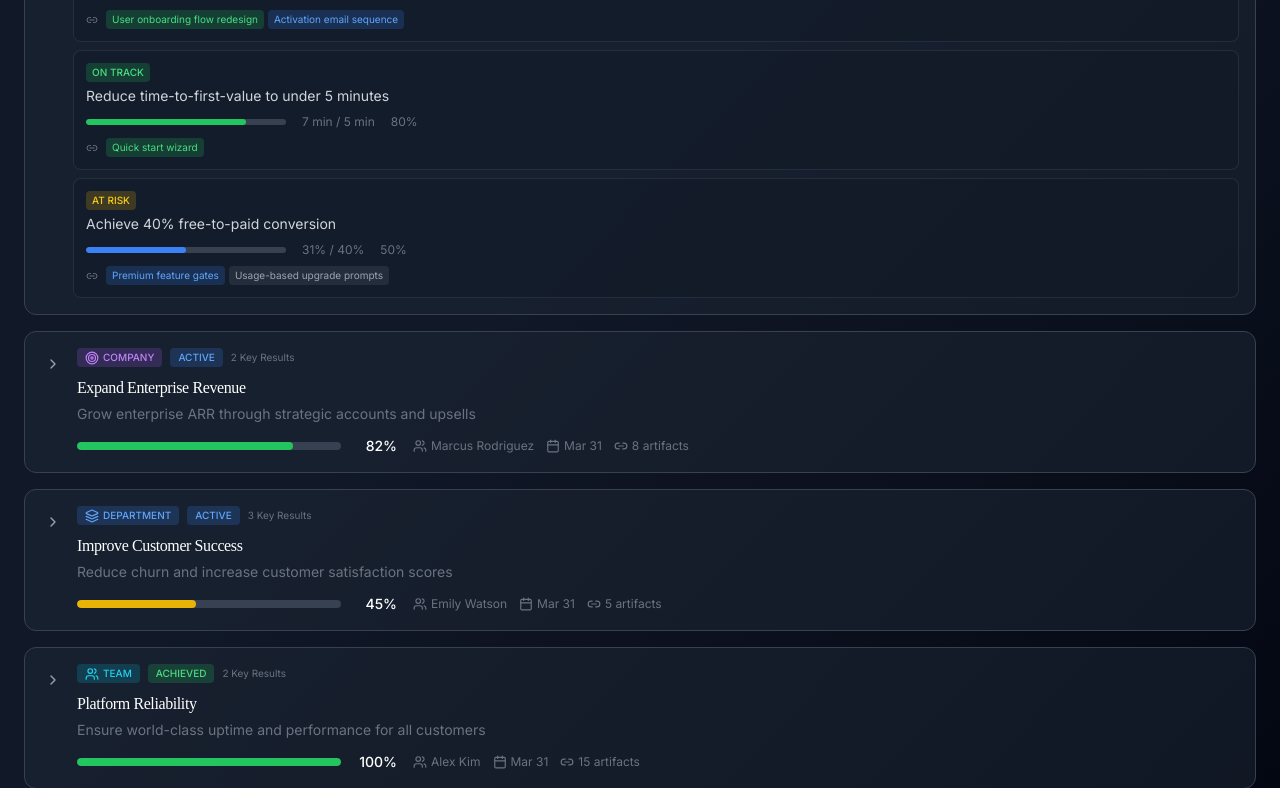
OutcomesView › opens detail panel when clicking objective title
(page scrolled)
# Click on an objective title
What coordinates should you click on to do the following:
click the button "Expand Enterprise Revenue"
I would click on:
 (161, 388)
Its box is [77,376,246,400].
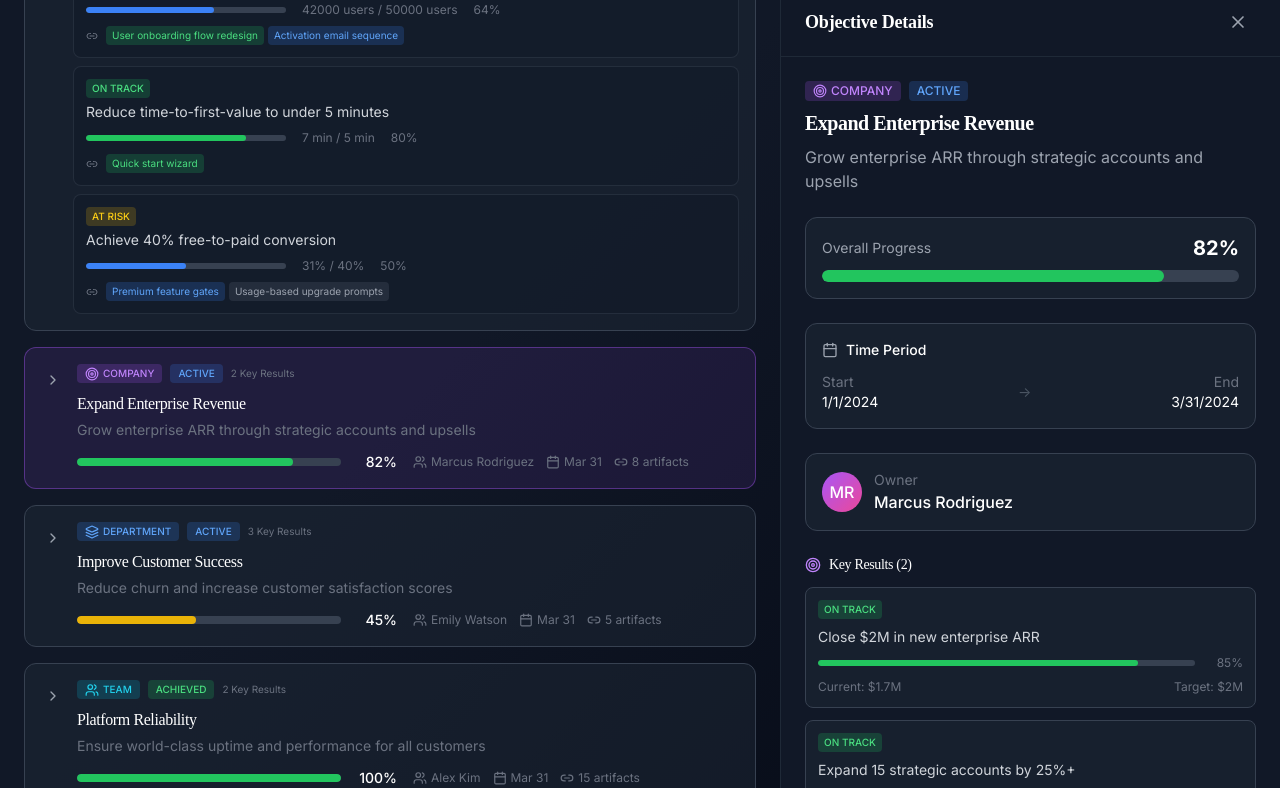
Expected: the heading "Objective Details" is shown, [805,8,933,36]
